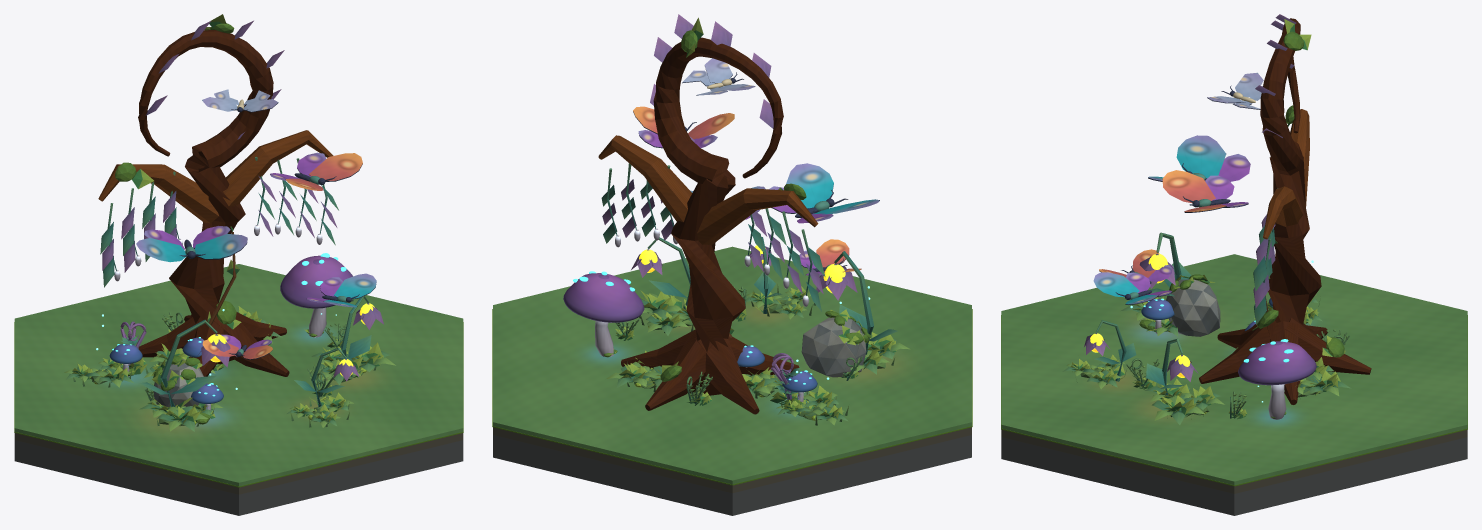
Rendered from hex_butterfly_glade.glb.
3 renders of one model, left to right at view 1: azimuth 30°, elevation 25°; view 2: azimuth 150°, elevation 25°; view 3: azimuth 270°, elevation 25°, orthographic. The views are drawn at different scales.
Visible parts, largest first — view 1: Standard hex meadow top.001, Dream willow coiling trunk.001, Standard hex stone foundation.001, Standard hex earth layer.001, Dream willow arching branch.003, Dream willow arching branch.002, Broad faceted mushroom cap.002, Splayed dreaming tree root.010, Painted butterfly wing.014, Painted butterfly wing.006, Angular mossy forest boulder.001, Splayed dreaming tree root.003 (+6 smaller); view 2: Standard hex meadow top.001, Dream willow coiling trunk.001, Standard hex stone foundation.001, Standard hex earth layer.001, Broad faceted mushroom cap.002, Dream willow arching branch.002, Angular mossy forest boulder.001, Dream willow arching branch.003, Splayed dreaming tree root.003, Splayed dreaming tree root.002, Painted butterfly wing.006, Splayed dreaming tree root.001 (+4 smaller); view 3: Standard hex meadow top.001, Standard hex stone foundation.001, Dream willow coiling trunk.001, Standard hex earth layer.001, Broad faceted mushroom cap.002, Angular mossy forest boulder.001, Painted butterfly wing.004, Splayed dreaming tree root.002, Splayed dreaming tree root.010, Dream willow arching branch.003, Painted butterfly wing.012, Dream willow arching branch.002 (+5 smaller).
Boxes of the visible parts, <box> form: Standard hex meadow top.001: <box>14,264,463,486</box>; Dream willow coiling trunk.001: <box>138,30,273,364</box>; Standard hex stone foundation.001: <box>14,440,463,515</box>; Standard hex earth layer.001: <box>14,433,463,494</box>; Dream willow arching branch.003: <box>223,130,333,206</box>; Dream willow arching branch.002: <box>98,164,218,223</box>; Broad faceted mushroom cap.002: <box>280,255,352,308</box>; Splayed dreaming tree root.010: <box>214,316,289,376</box>; Painted butterfly wing.014: <box>309,153,362,181</box>; Painted butterfly wing.006: <box>194,233,247,259</box>; Angular mossy forest boulder.001: <box>153,359,203,407</box>; Splayed dreaming tree root.003: <box>138,312,208,357</box>; Standard hex meadow top.001: <box>493,246,971,484</box>; Dream willow coiling trunk.001: <box>653,37,783,395</box>; Standard hex stone foundation.001: <box>493,435,971,515</box>; Standard hex earth layer.001: <box>493,427,971,493</box>; Broad faceted mushroom cap.002: <box>563,273,644,322</box>; Dream willow arching branch.002: <box>697,188,818,244</box>; Angular mossy forest boulder.001: <box>801,317,866,377</box>; Dream willow arching branch.003: <box>598,135,692,222</box>; Splayed dreaming tree root.003: <box>698,338,759,414</box>; Splayed dreaming tree root.002: <box>645,332,715,410</box>; Painted butterfly wing.006: <box>786,163,833,208</box>; Splayed dreaming tree root.001: <box>621,329,696,368</box>; Standard hex meadow top.001: <box>1001,254,1467,485</box>; Standard hex stone foundation.001: <box>1001,437,1467,515</box>; Dream willow coiling trunk.001: <box>1260,18,1321,324</box>; Standard hex earth layer.001: <box>1001,429,1467,493</box>; Broad faceted mushroom cap.002: <box>1238,341,1316,385</box>; Angular mossy forest boulder.001: <box>1166,279,1220,336</box>; Painted butterfly wing.004: <box>1176,135,1226,178</box>; Splayed dreaming tree root.002: <box>1285,317,1371,374</box>; Splayed dreaming tree root.010: <box>1199,321,1282,383</box>; Dream willow arching branch.003: <box>1263,186,1302,239</box>; Painted butterfly wing.012: <box>1162,170,1215,203</box>; Dream willow arching branch.002: <box>1290,109,1309,205</box>.
Size of the model in its own units: 5.11 by 4.05 by 4.42.
53 materials, 47 textured.
